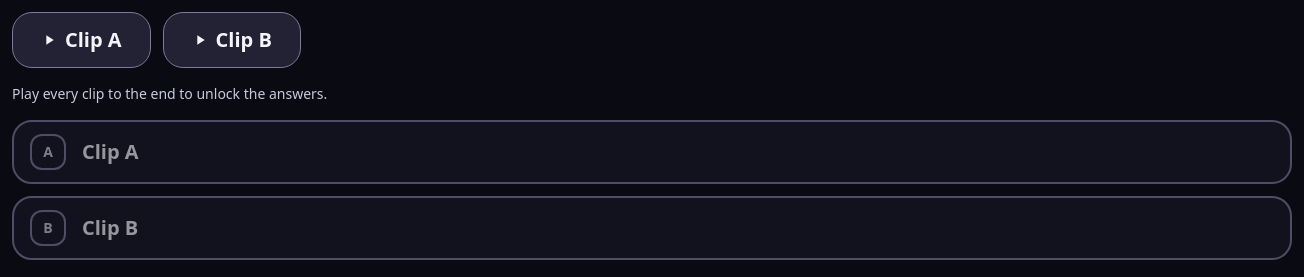
Test: ByEar: gating the options › starting another clip stops the first without counting it
Click the button with aria-label "Play clip A".
click(81, 40)  # box [12,12,151,68]
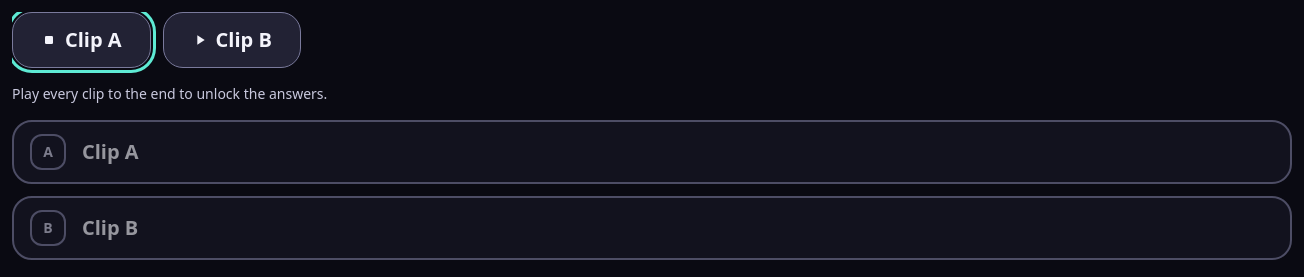
Click the button with aria-label "Play clip B".
click(232, 40)  # box [163,12,301,68]
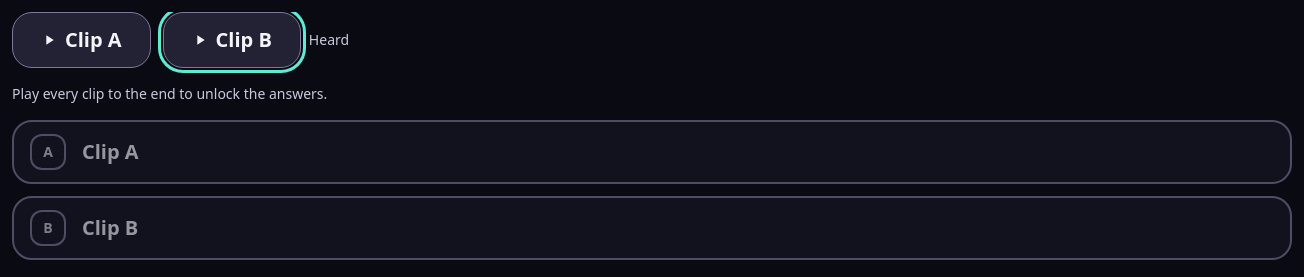
Expected: the button "A Clip A" is disabled, [12,120,1292,184]
Click the button with aria-label "Play clip A".
click(81, 40)  # box [12,12,151,68]
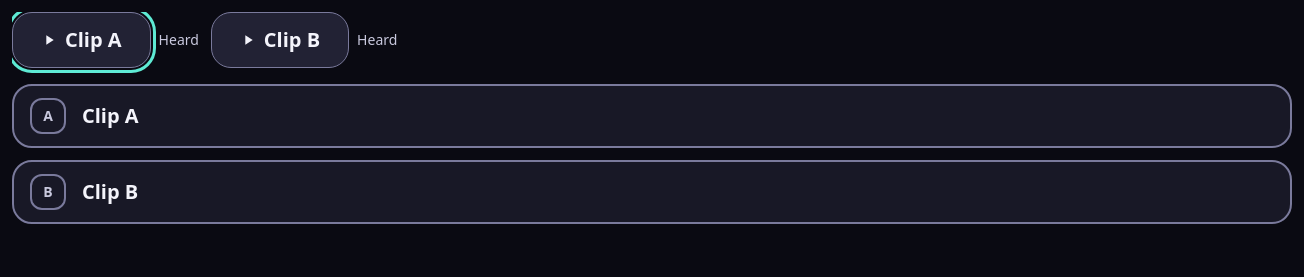
Expected: the button "A Clip A" is enabled, [12,84,1292,148]
